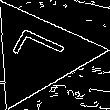L_SE: (6, 28, 72, 79)
